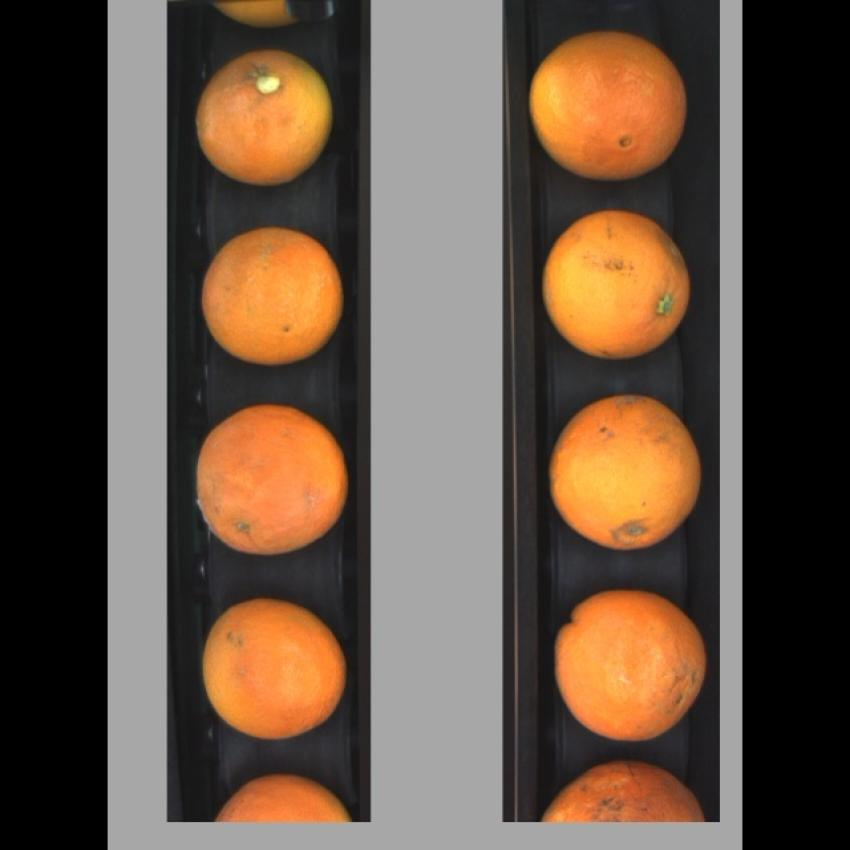Buen estado: (524, 24, 698, 184)
Mal estado: (546, 582, 717, 744), (546, 388, 710, 554), (191, 403, 351, 559), (539, 204, 694, 362), (198, 593, 347, 744), (196, 221, 345, 371), (187, 44, 336, 187), (536, 757, 715, 819), (212, 773, 364, 821)
